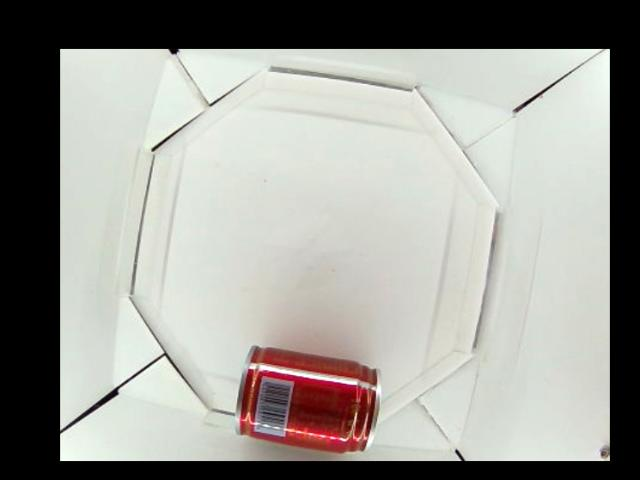Bottle: (234, 346, 377, 454)
